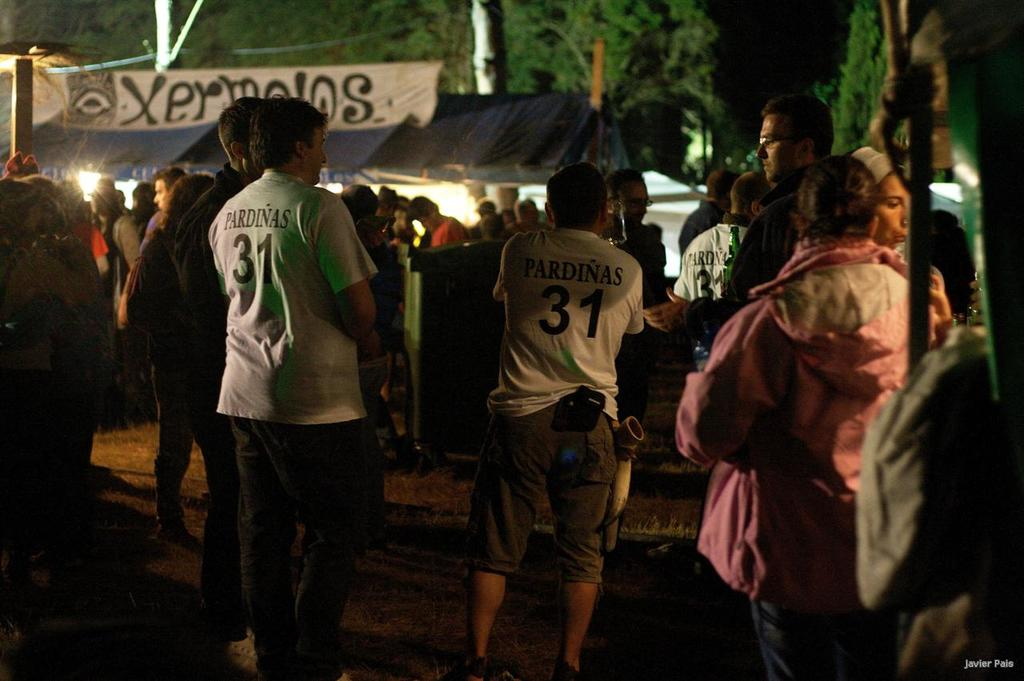Footwear: (222, 626, 261, 680), (153, 520, 201, 552), (461, 655, 491, 680), (553, 660, 583, 680)
